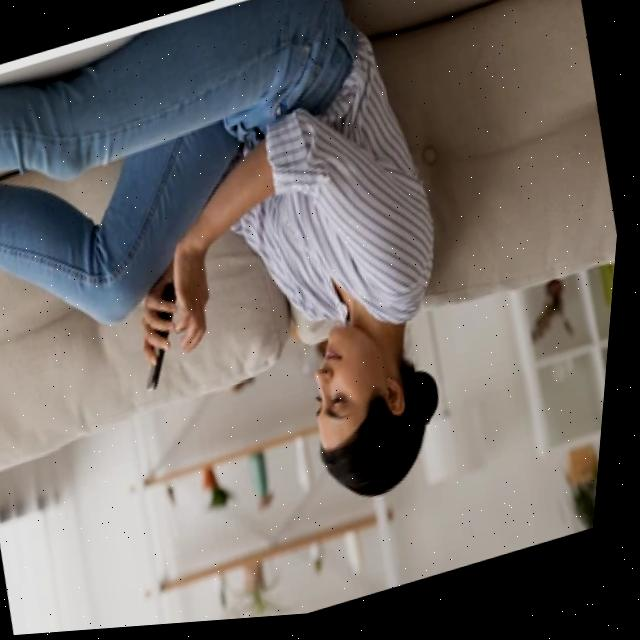smartphone-person: (46, 0, 515, 588)
